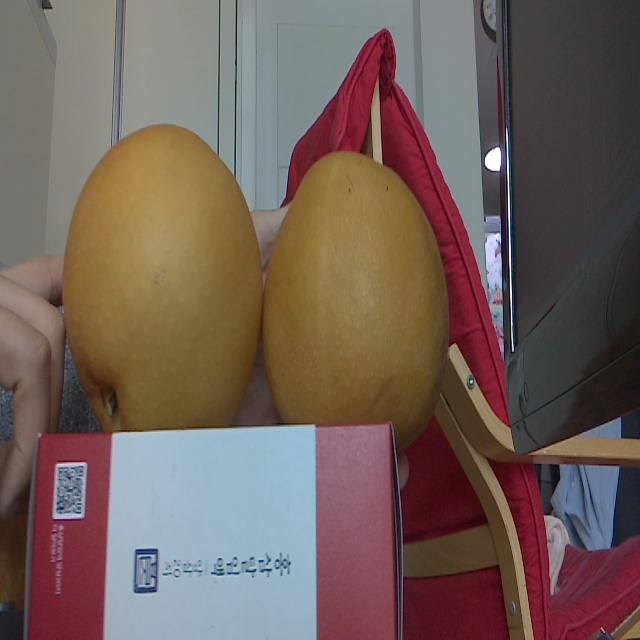pear: (61, 122, 263, 432), (262, 152, 448, 461)
